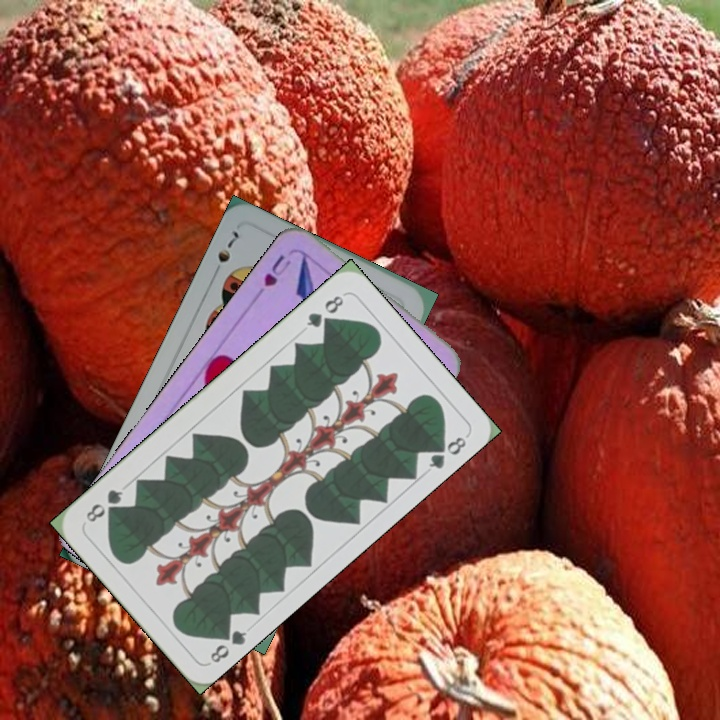G8: (205, 622, 250, 667), (302, 291, 347, 330)
HU: (253, 250, 294, 299)
S7: (209, 226, 242, 280)
